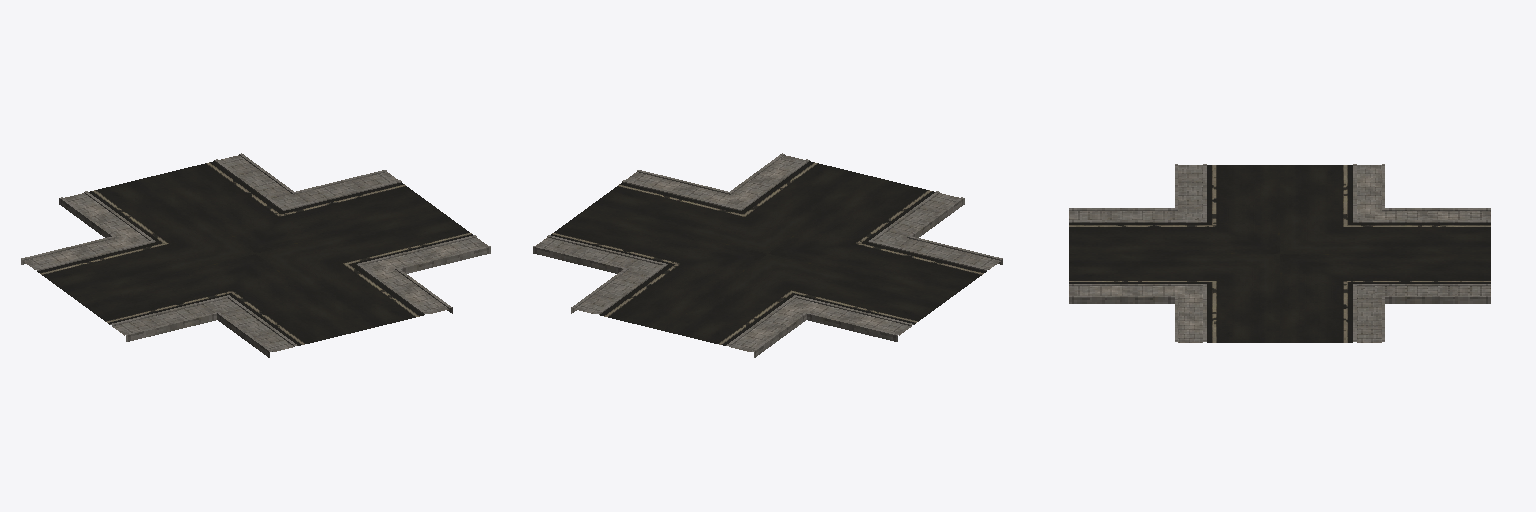
3 views of the same model, side by side, from view 1: azimuth 30°, elevation 25°; view 2: azimuth 150°, elevation 25°; view 3: azimuth 270°, elevation 25° (orthographic).
Parts seen in each view (by area): view 1: 7_Road-Cross-A-A; view 2: 7_Road-Cross-A-A; view 3: 7_Road-Cross-A-A.
Part boxes in pixels (bbox=[...]): 7_Road-Cross-A-A: bbox=[21, 153, 490, 357]; 7_Road-Cross-A-A: bbox=[533, 153, 1002, 357]; 7_Road-Cross-A-A: bbox=[1069, 164, 1490, 342].
Size of the model in its own units: 1.24 by 0.0219 by 1.24.
1 materials, 1 textured.